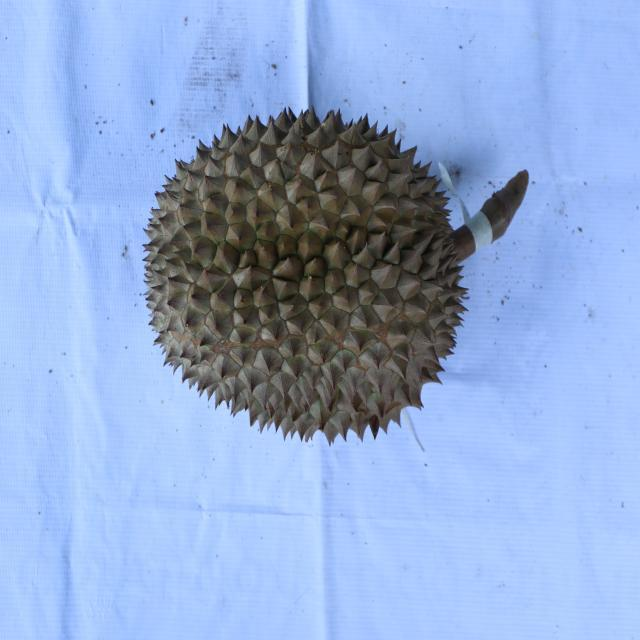mature: (140, 101, 470, 450)
